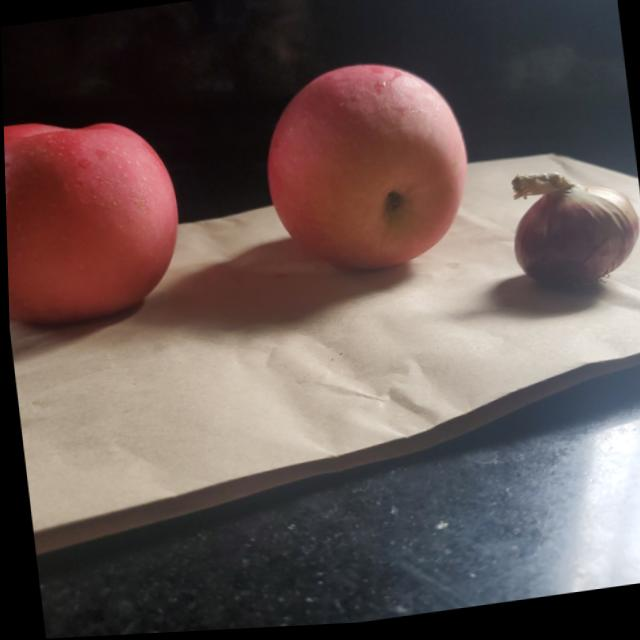apple: (260, 52, 478, 282), (3, 106, 189, 329)
onion: (501, 167, 640, 307)
